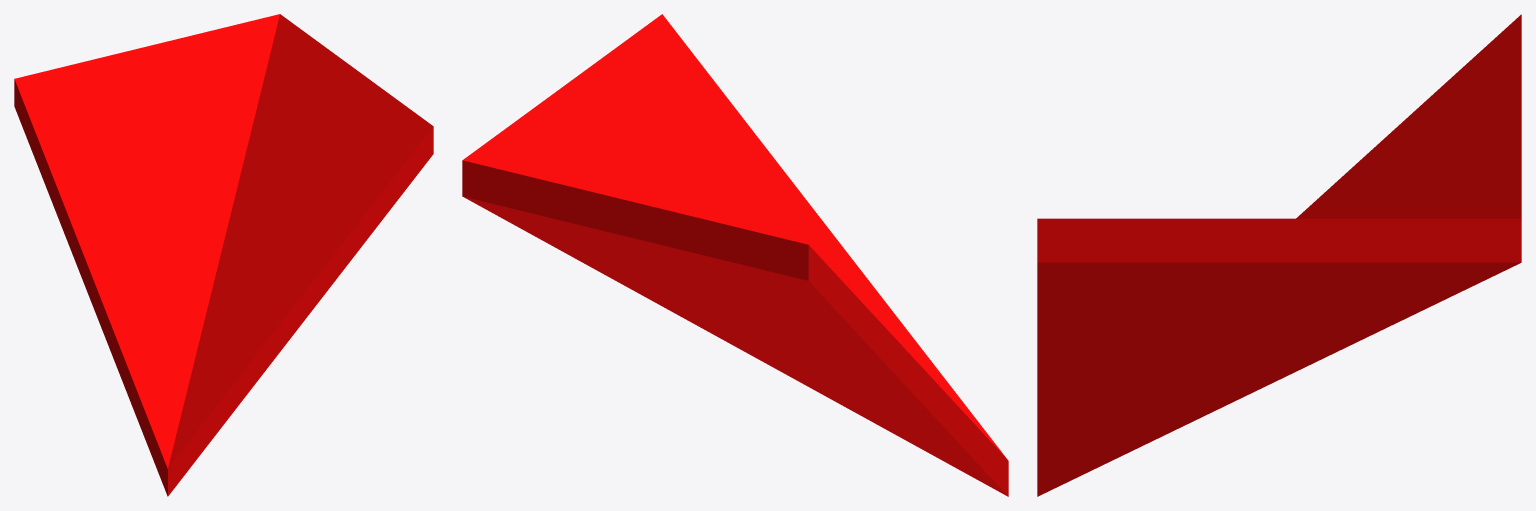
The model's file is roof_corner_inner.fbx.
3 views of the same model, side by side, from view 1: azimuth 30°, elevation 25°; view 2: azimuth 150°, elevation 25°; view 3: azimuth 270°, elevation 25° (orthographic). The views are drawn at different scales.
Parts seen in each view (by area): view 1: Mesh1_Component_3_1 Model; view 2: Mesh1_Component_3_1 Model; view 3: Mesh1_Component_3_1 Model.
Part boxes in pixels (x1,y1,x2,y2): Mesh1_Component_3_1 Model: (14, 14, 433, 496); Mesh1_Component_3_1 Model: (462, 14, 1008, 496); Mesh1_Component_3_1 Model: (1037, 14, 1521, 496).
Size of the model in its own units: 1 by 1.1 by 1.
